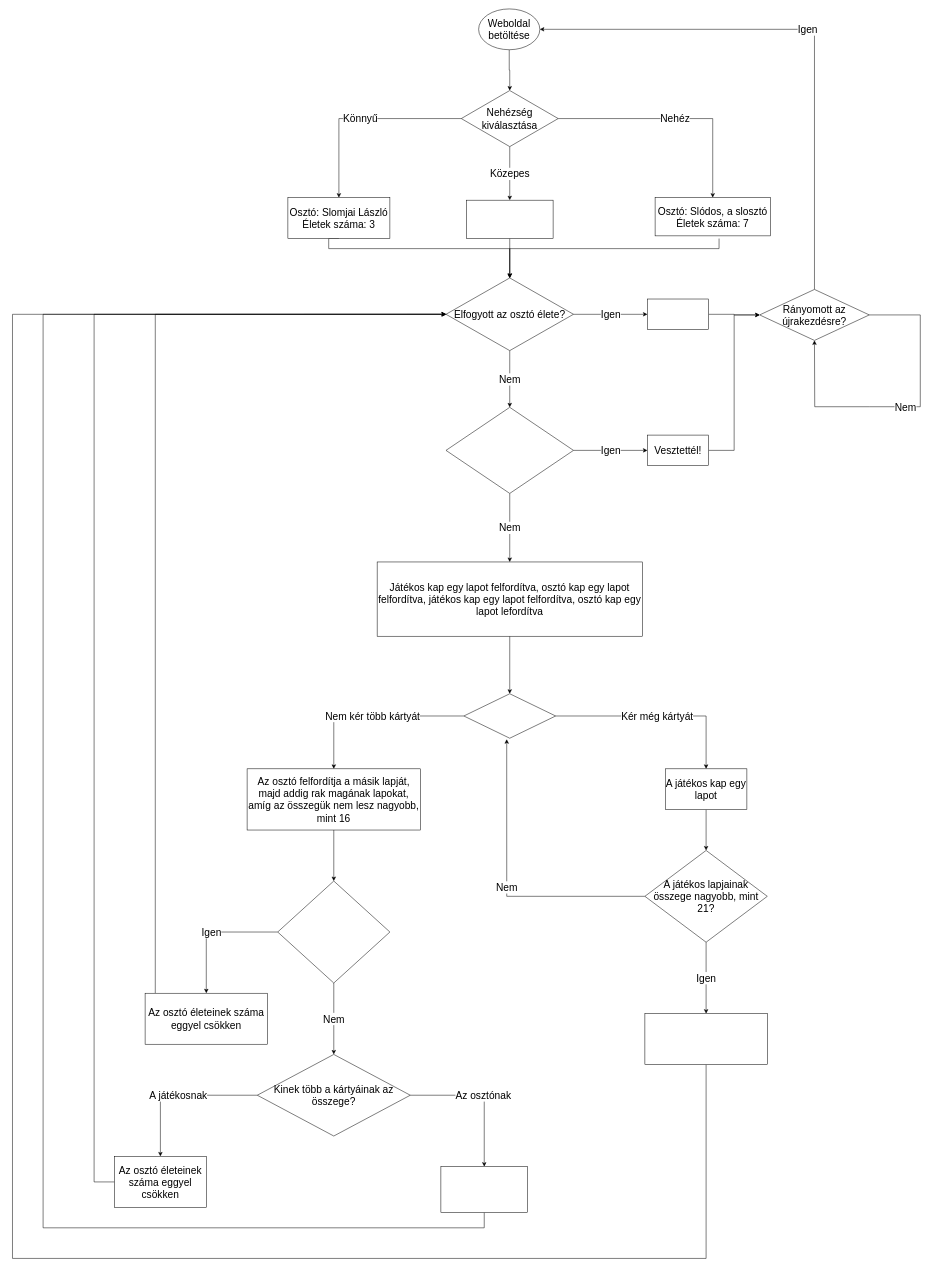
The diagram is 933 pixels wide and 1271 high, and some of its shapes have lost their labels. The shapes that lost their labels are listed below. From the top down, each one's centre as x and y in pixels, then its label:
the point at 509,219: Osztó: Pognár Bál Életek száma: 5
the point at 678,314: Nyertél!
the point at 509,450: Elfogyott a játékos élete?
the point at 509,715: Játékos választ
the point at 333,932: Az osztó lapjainak száma nagyobb, mint 21?
the point at 705,1039: Az osztó nyer, a játékos életeinek száma eggyel csökken
the point at 484,1189: A játékos életeinek száma eggyel csökken
